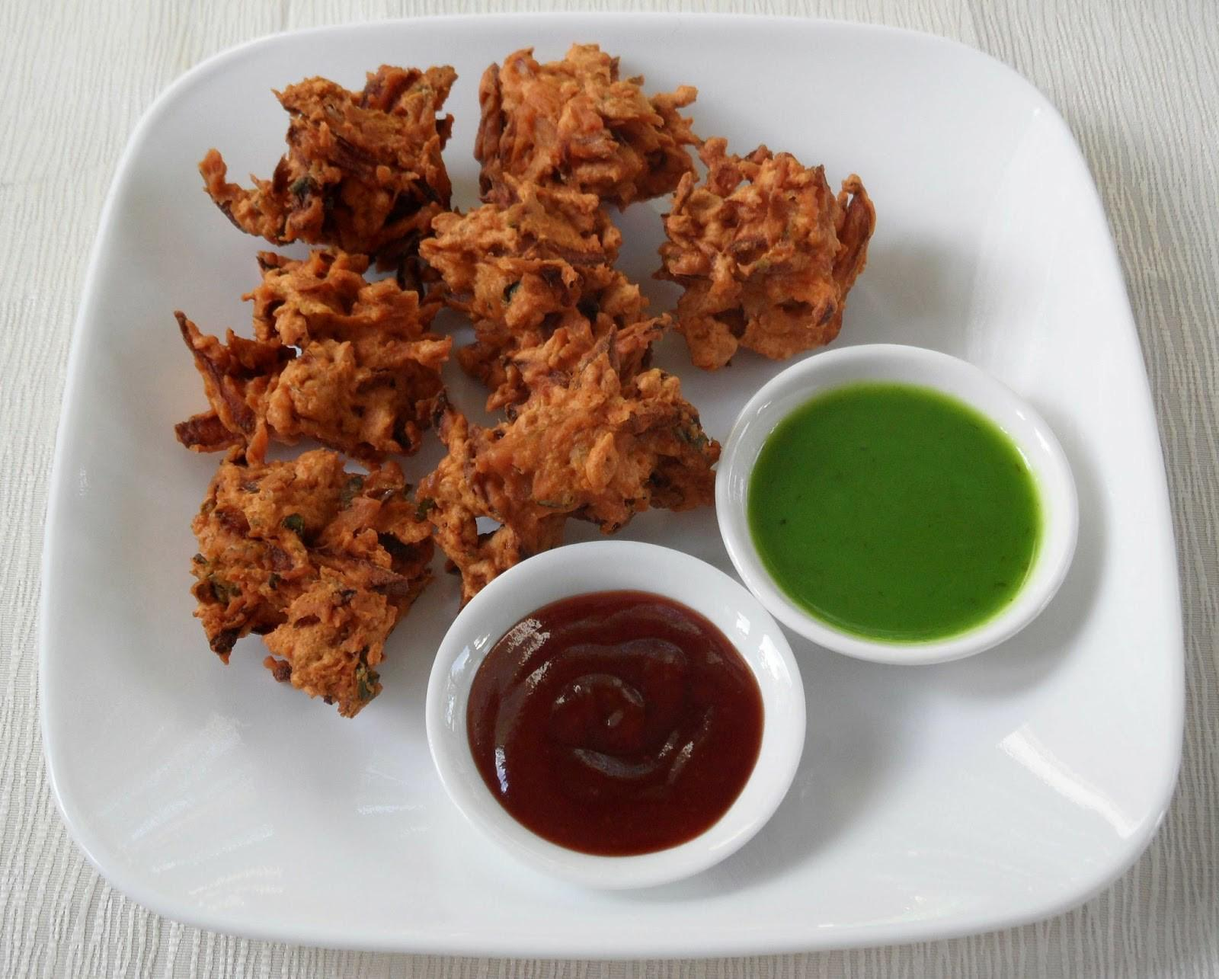GreenChutney: (753, 387, 1040, 640)
OnionPakoda: (172, 39, 876, 721)
